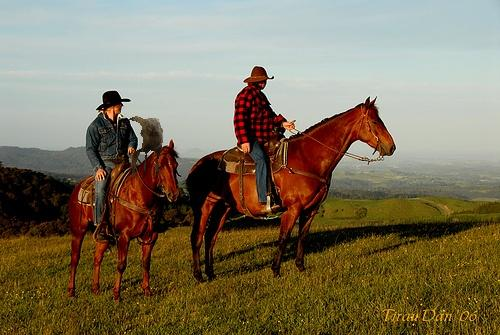tampered: (130, 117, 163, 178)
